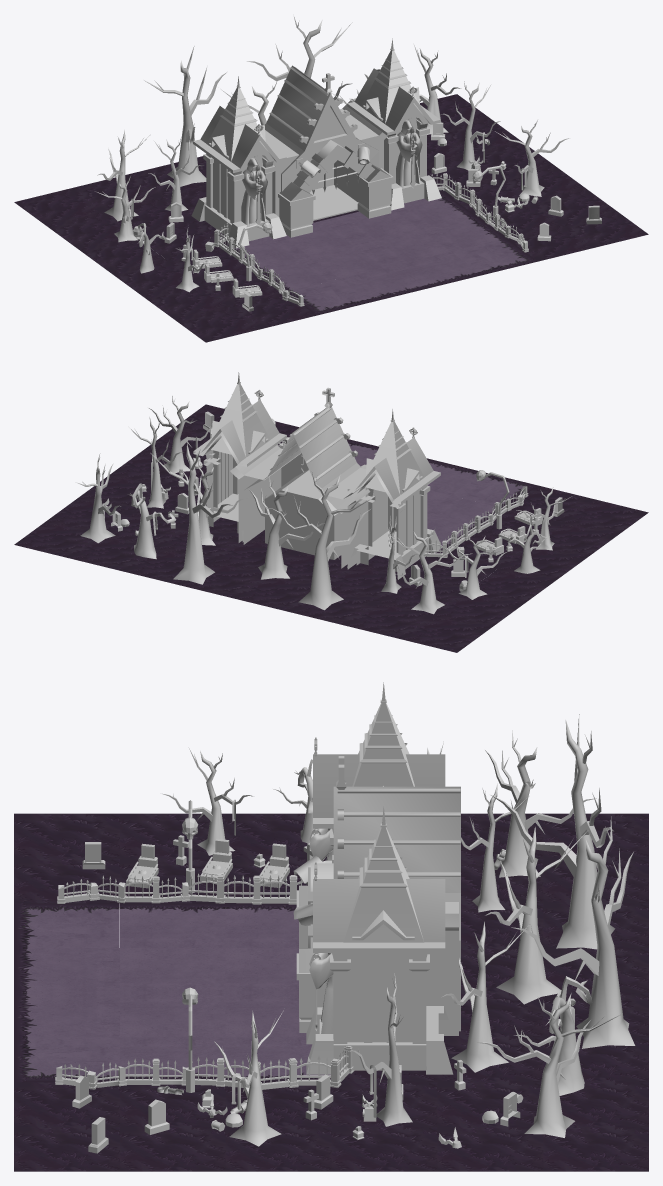
File: Gost_Map_001.fbx
3 renders of one model, top to bottom at view 1: azimuth 30°, elevation 25°; view 2: azimuth 150°, elevation 25°; view 3: azimuth 270°, elevation 25°, orthographic. The views are drawn at different scales.
Visible parts, largest first — view 1: Gost_Main_001, Gost_Tree_007, Gost_Swbobj_left_001, Gost_Swbobj_right_001, Gost_Tile_Map_050, Gost_Tile_Map_012, Gost_Tile_Map_013, Gost_Tile_Map_008, Gost_Tile_Map_004, Gost_Tile_Map_011, Gost_Tile_Map_003, Gost_Tile_Map_005 (+39 smaller); view 2: Gost_Main_001, Gost_Tree_007, Gost_Tree_005, Gost_Tile_Map_049, Gost_Tile_Map_050, Gost_Tile_Map_008, Gost_Tile_Map_042, Gost_Tile_Map_043, Gost_Swbobj_left_001, Gost_Tree_006, Gost_Tile_Map_034, Gost_Tile_Map_047 (+38 smaller); view 3: Gost_Main_001, Gost_Tree_005, Gost_Tree_007, Gost_Tile_Map_004, Gost_Tile_Map_005, Gost_Tile_Map_014, Gost_Tile_Map_006, Gost_Tile_Map_013, Gost_Tile_Map_026, Gost_Tile_Map_009, Gost_Tile_Map_008, Gost_Tile_Map_012 (+54 smaller).
Part boxes in pixels (x1,y1,x2,y2): Gost_Main_001: [191, 38, 441, 248]; Gost_Tree_007: [144, 46, 226, 186]; Gost_Swbobj_left_001: [133, 202, 262, 311]; Gost_Swbobj_right_001: [431, 122, 601, 241]; Gost_Tile_Map_050: [14, 188, 100, 225]; Gost_Tile_Map_012: [364, 228, 450, 264]; Gost_Tile_Map_013: [308, 242, 394, 278]; Gost_Tile_Map_008: [174, 306, 260, 342]; Gost_Tile_Map_004: [396, 251, 482, 288]; Gost_Tile_Map_011: [419, 215, 505, 251]; Gost_Tile_Map_003: [451, 238, 537, 274]; Gost_Tile_Map_005: [340, 265, 426, 301]; Gost_Main_001: [193, 372, 441, 579]; Gost_Tree_007: [264, 472, 370, 610]; Gost_Tree_005: [150, 443, 233, 584]; Gost_Tile_Map_049: [347, 602, 433, 639]; Gost_Tile_Map_050: [402, 616, 488, 652]; Gost_Tile_Map_008: [562, 499, 648, 535]; Gost_Tile_Map_042: [434, 595, 520, 629]; Gost_Tile_Map_043: [14, 521, 93, 558]; Gost_Swbobj_left_001: [409, 497, 564, 591]; Gost_Tree_006: [249, 477, 324, 579]; Gost_Tile_Map_034: [479, 569, 552, 605]; Gost_Tile_Map_047: [236, 578, 310, 612]; Gost_Main_001: [296, 682, 460, 1074]; Gost_Tree_005: [511, 816, 635, 1048]; Gost_Tree_007: [491, 714, 615, 949]; Gost_Tile_Map_004: [14, 992, 119, 1037]; Gost_Tile_Map_005: [14, 948, 119, 992]; Gost_Tile_Map_014: [120, 903, 225, 947]; Gost_Tile_Map_006: [14, 903, 119, 947]; Gost_Tile_Map_013: [120, 948, 225, 992]; Gost_Tile_Map_026: [331, 1127, 437, 1171]; Gost_Tile_Map_009: [120, 1127, 225, 1171]; Gost_Tile_Map_008: [14, 813, 119, 858]; Gost_Tile_Map_012: [120, 992, 225, 1037].
Bounding box in the file's own units: 165827 × 55639 × 124371.
